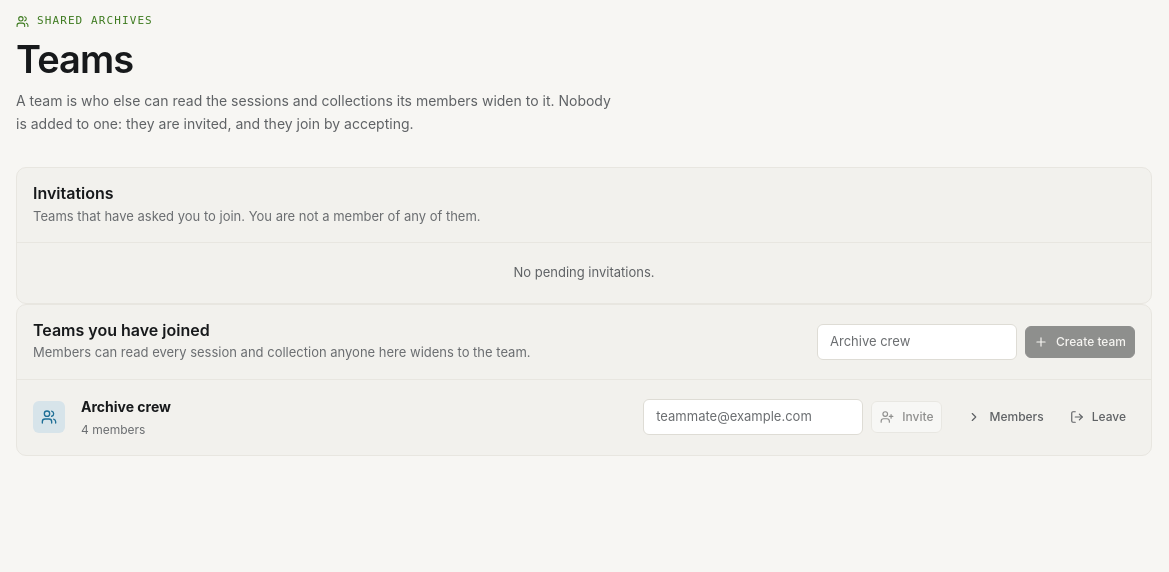
Test case: a team's roster › shows a refused roster in the region the reader opened, and names nobody
Click the button "Members": click(1006, 417) [958,401,1053,433]
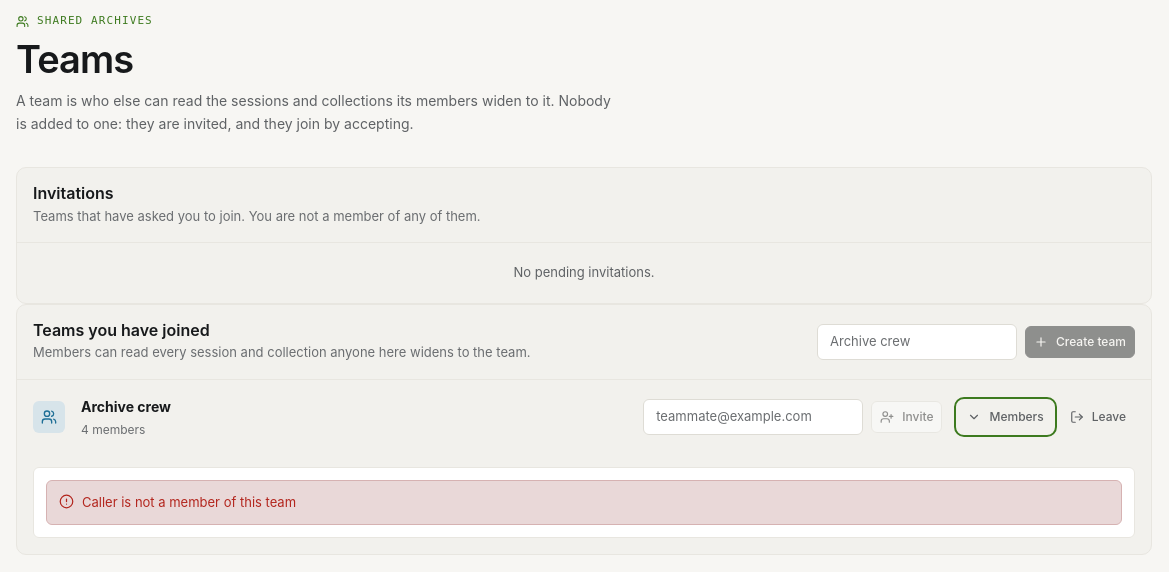
Check: the message reads "Caller is not a member of this team", box [82,494,296,510]
